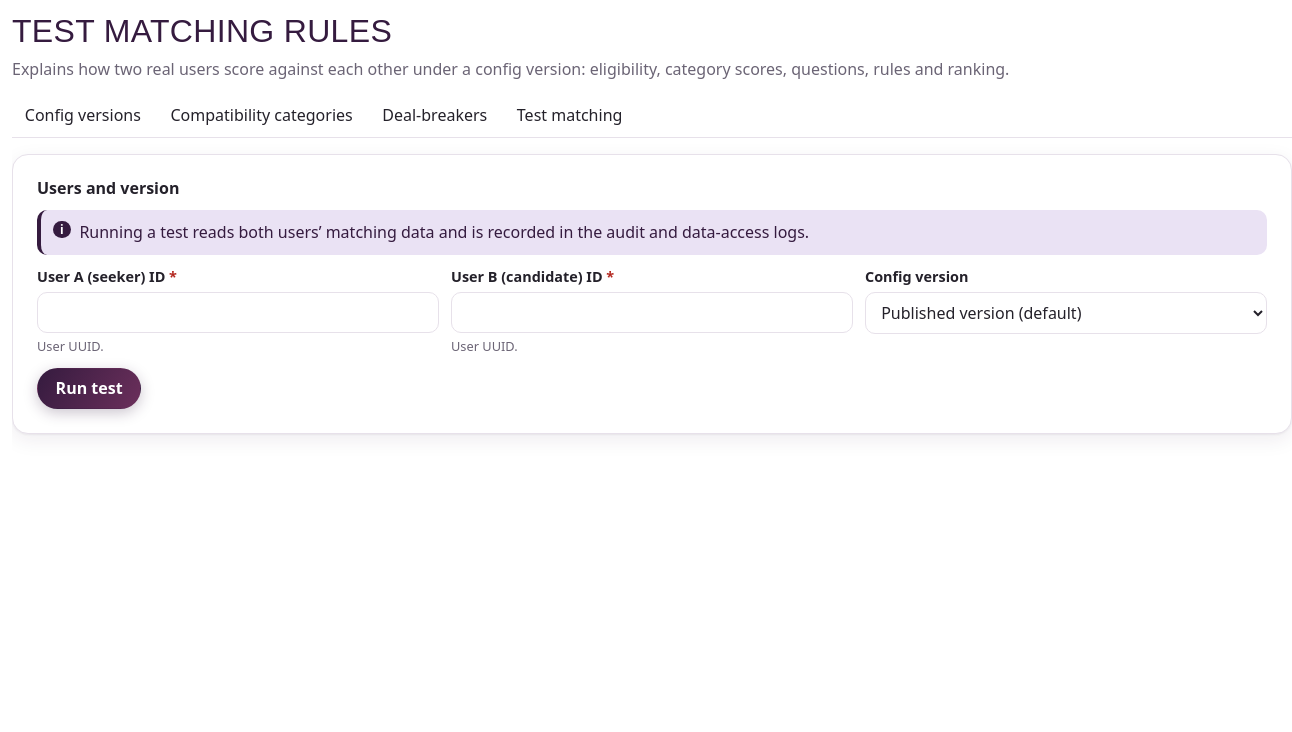
MatchTestPage › runs a test against the chosen version and renders the breakdown
The image size is (1292, 732).
Type "44444444-4444-4444-8444-444444444444" into the field labelled "User A (seeker) ID *" at coordinates (238, 313), box [37,292,439,333]
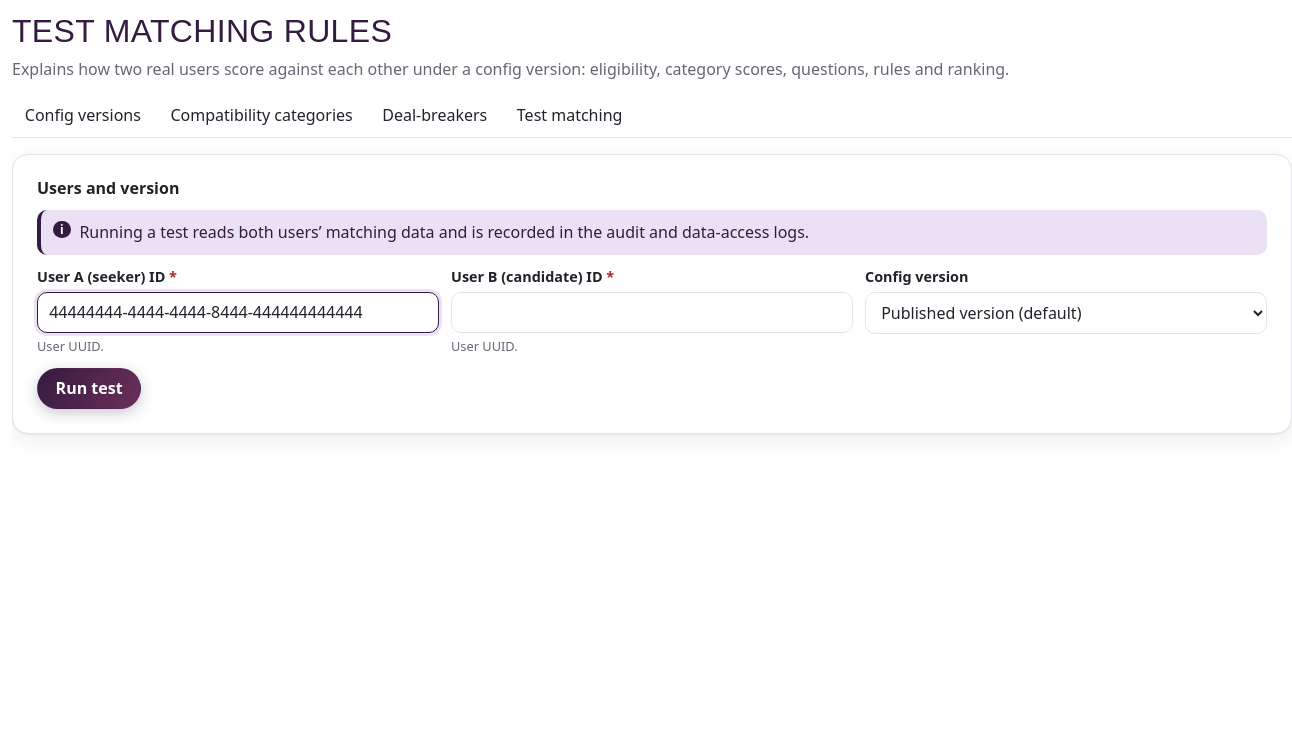
Type "55555555-5555-4555-8555-555555555555" into the field labelled "User B (candidate) ID *" at coordinates (652, 313), box [451,292,853,333]
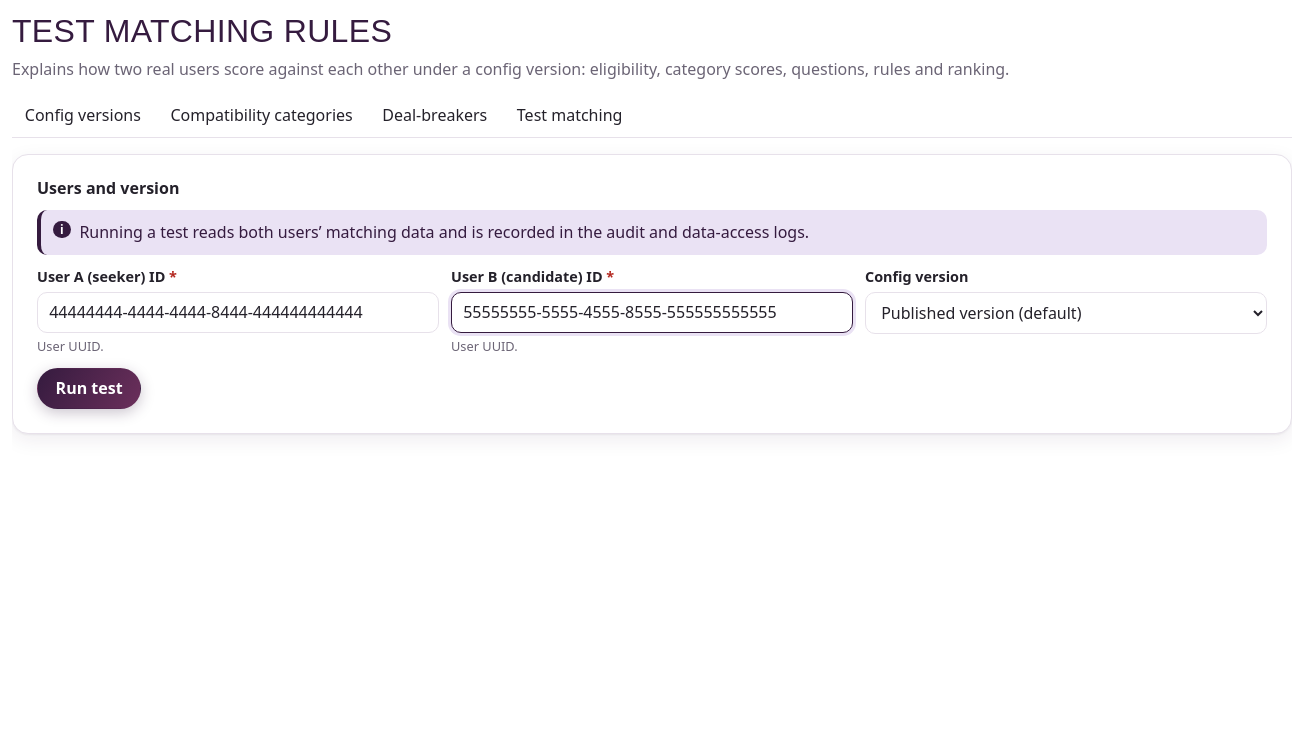
Select "v1 — Archived" in the dropdown labelled "Config version" at coordinates (1066, 313), box [865,292,1267,334]
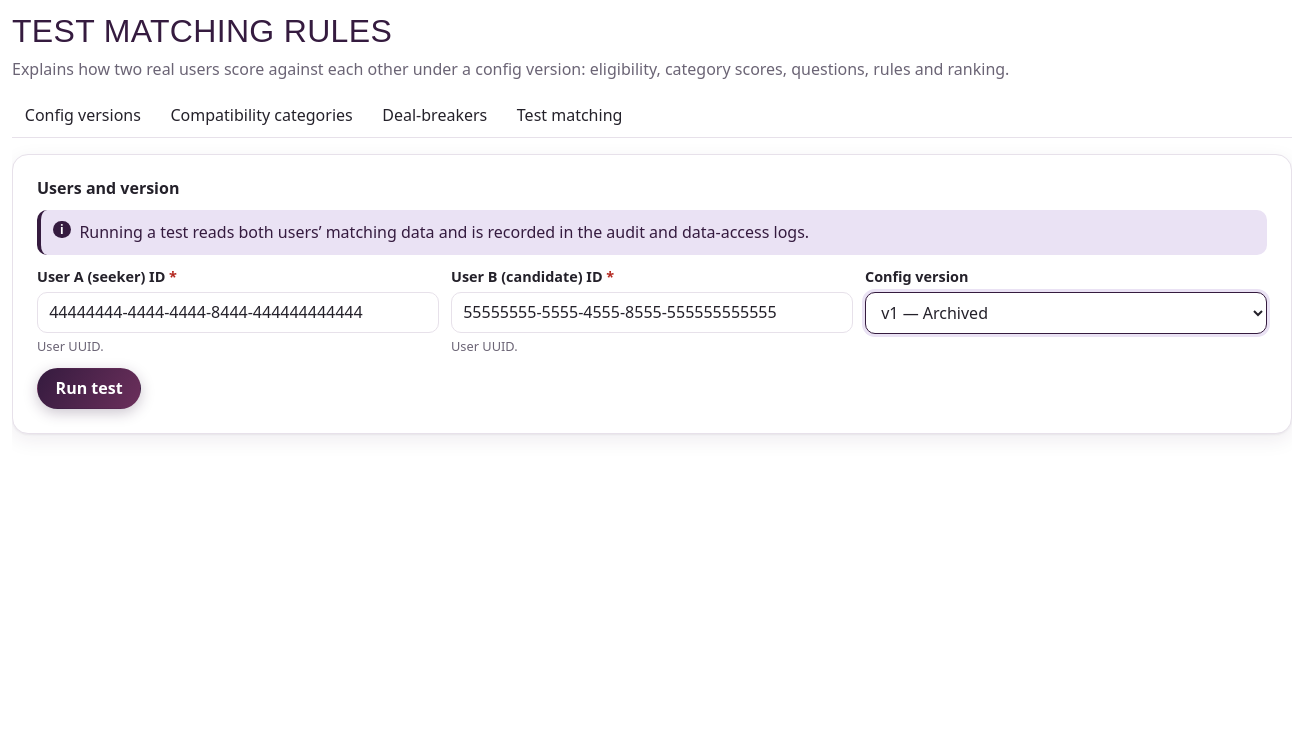
Click the button "Run test" at coordinates (89, 388), box [37,368,141,409]
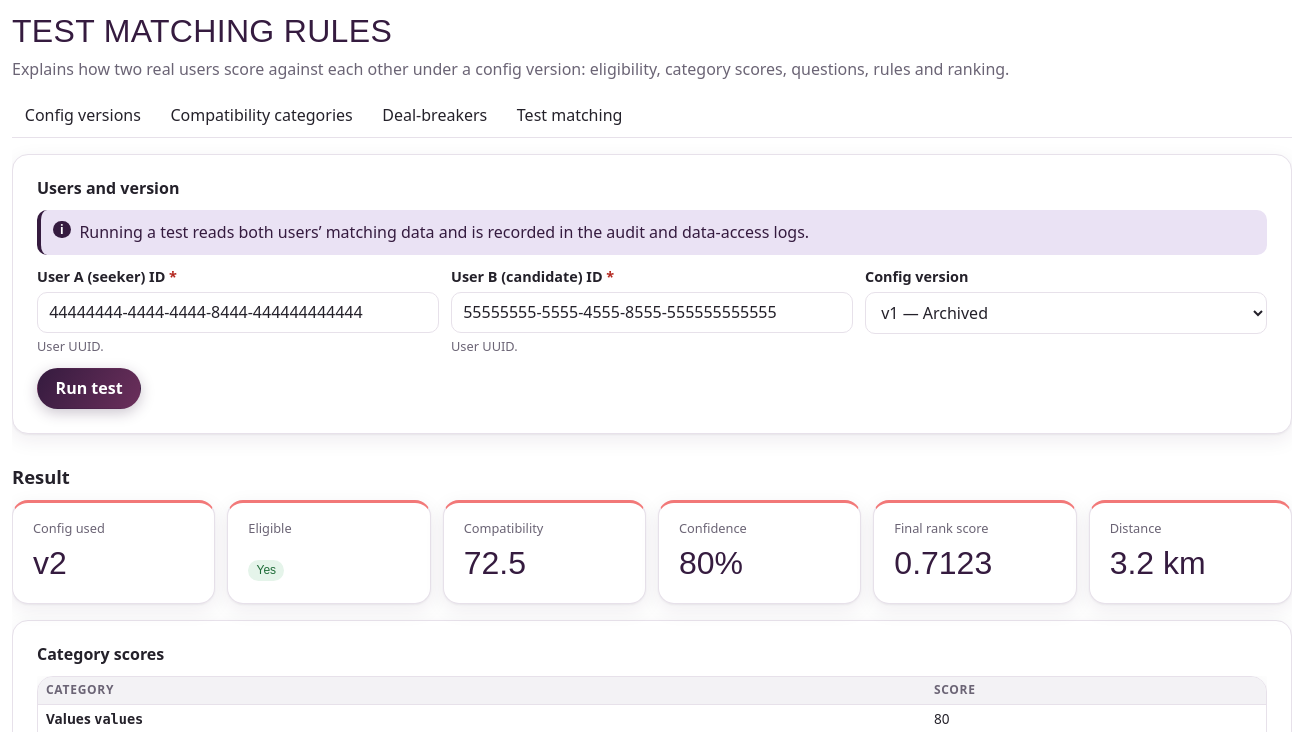
Check: the heading "Result" is shown, box [12,464,70,489]
Check: the text "72.5" is shown, box [464,545,526,581]
